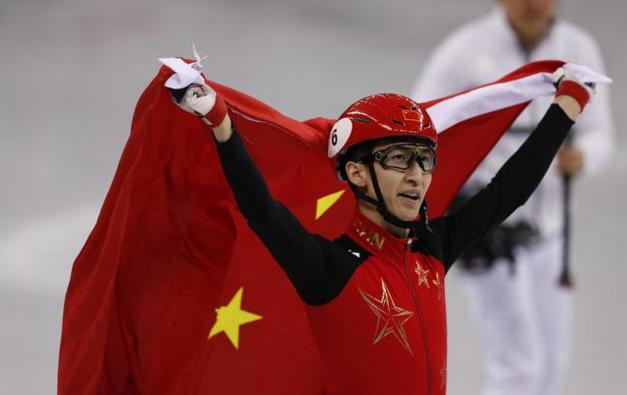wdj: (322, 85, 450, 218)
